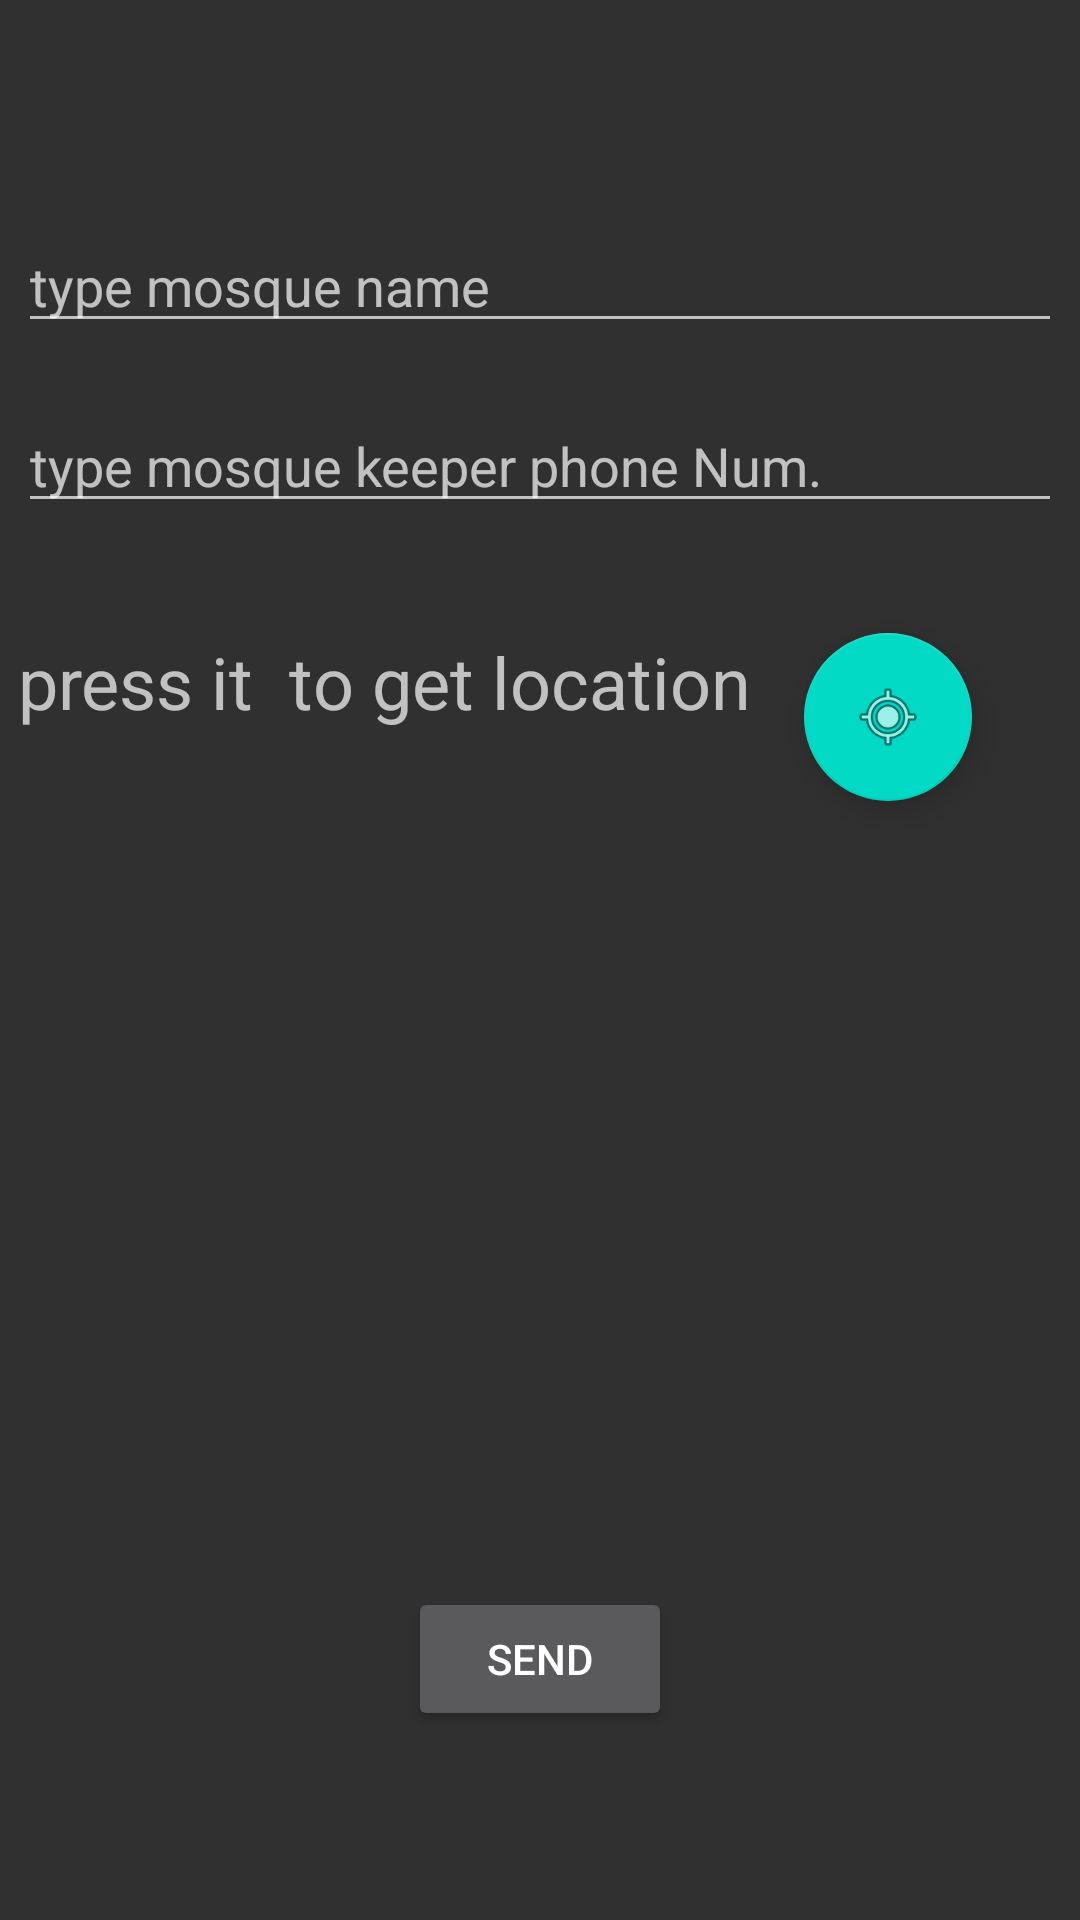

Where icons sit on this 1080w x 1920h app screen, as (x1, y1, x2, y2):
mylocation: (804, 633, 972, 801)
